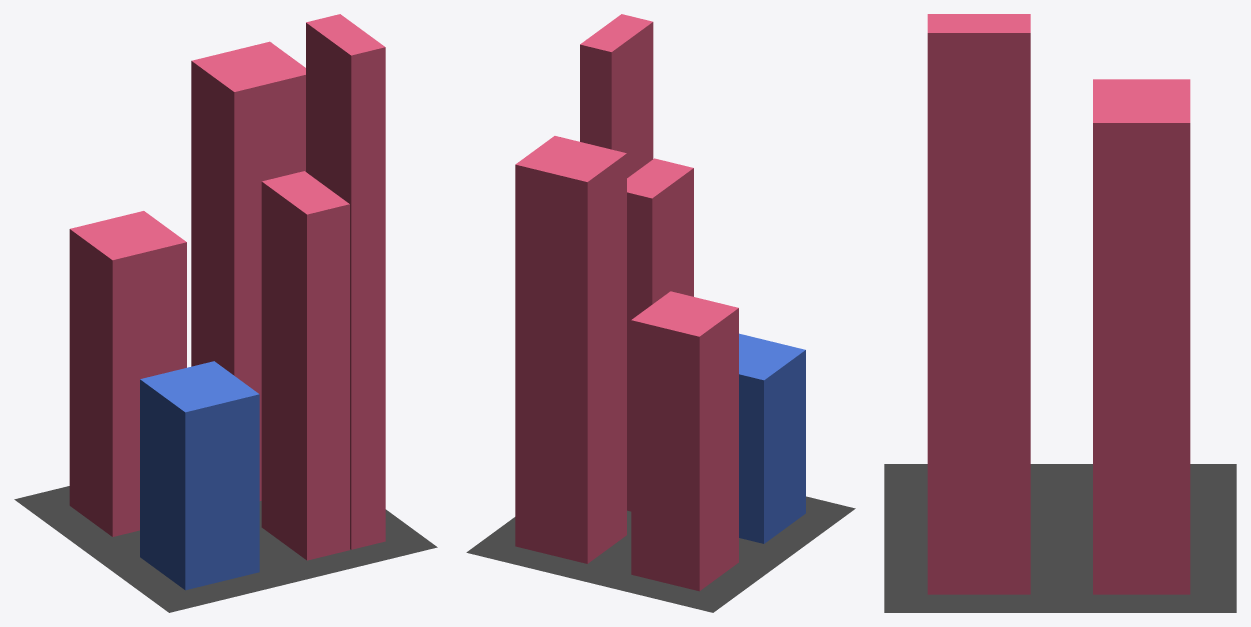
The model's file is sat2lod2_baseline.glb.
The picture shows the model from 3 angles, left to right: view 1: azimuth 30°, elevation 25°; view 2: azimuth 150°, elevation 25°; view 3: azimuth 270°, elevation 25°; orthographic projection. The views are drawn at different scales.
Size of the model in its own units: 64 by 113 by 64.
